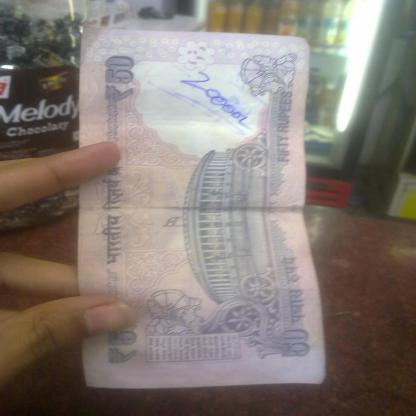Old50Back: (77, 25, 324, 390)
